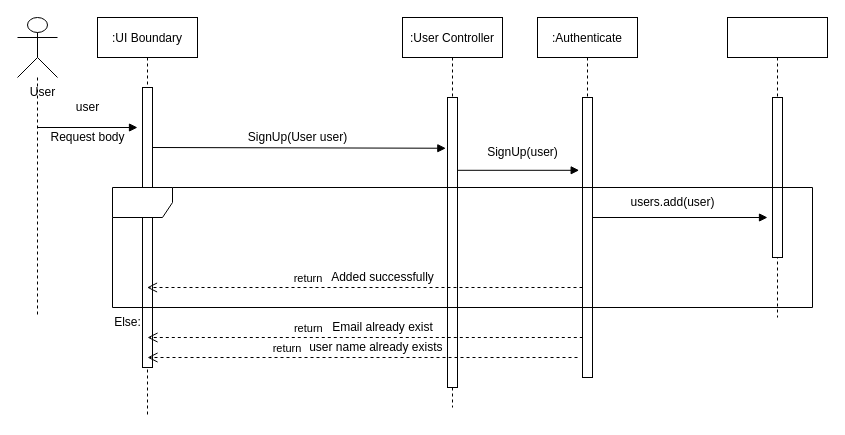
The diagram is 845 pixels wide and 435 high, and some of its shapes have lost their labels. The shapes that lost their labels are listed below. From the top down, each one's box as (x1, y1, x2, y2) in pixels, then its label:
(726, 16, 828, 318): :Database
(112, 186, 812, 308): Alternative
